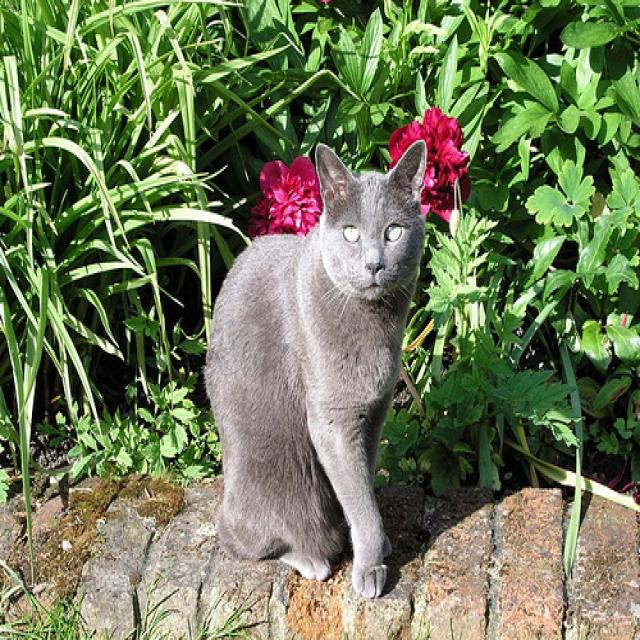cat: (314, 138, 426, 299)
